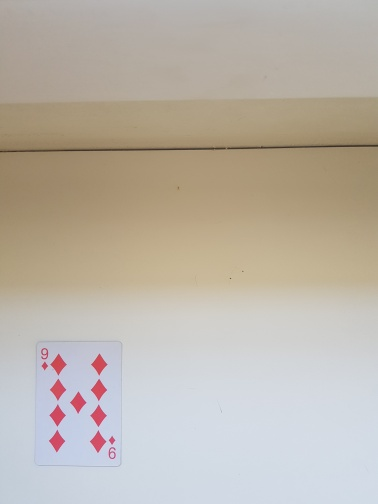nine: (31, 339, 124, 468)
